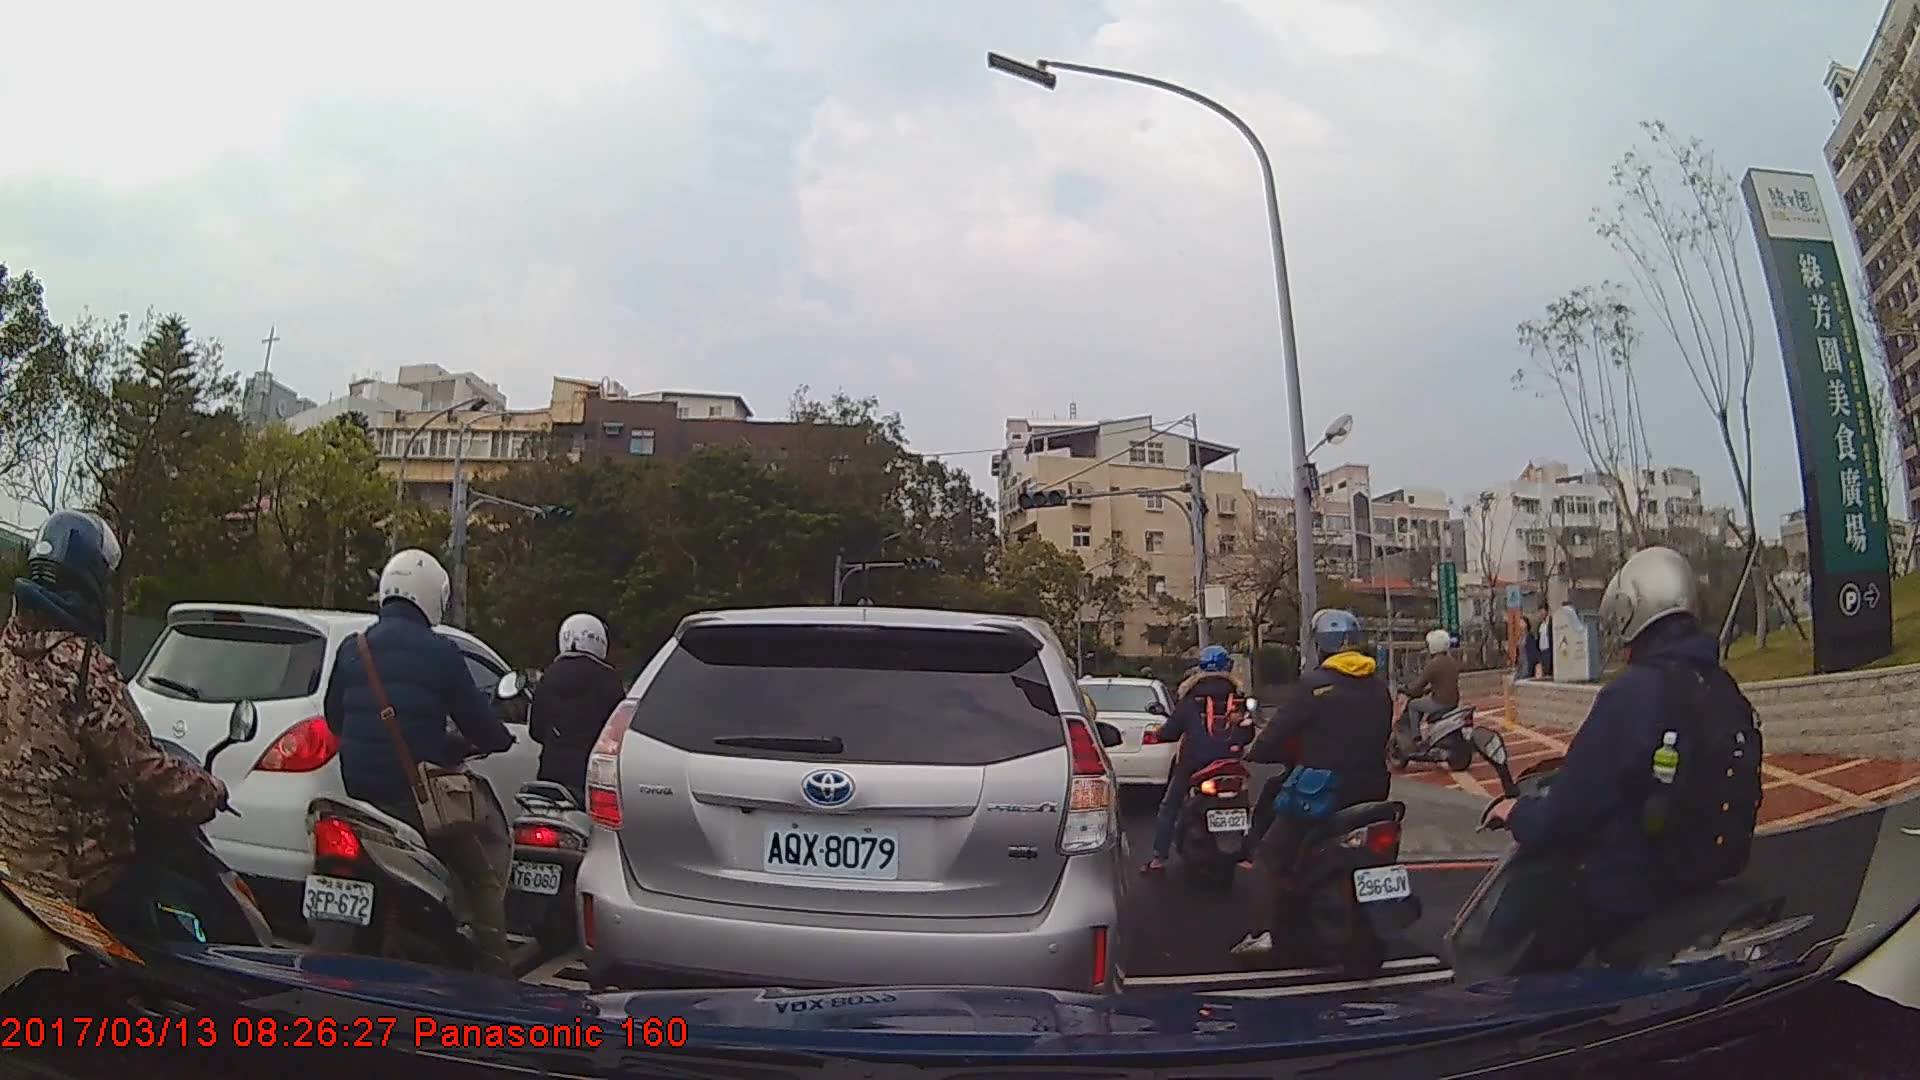pedestrian: (1531, 602, 1569, 697), (1511, 617, 1542, 705)
rider: (1438, 548, 1818, 1047), (1, 509, 277, 1068), (299, 545, 530, 1000), (1236, 604, 1425, 984), (509, 611, 674, 959), (1140, 646, 1267, 885), (1385, 628, 1478, 776)
vehicle: (584, 604, 1131, 1015), (99, 600, 589, 912), (1058, 673, 1183, 796)
